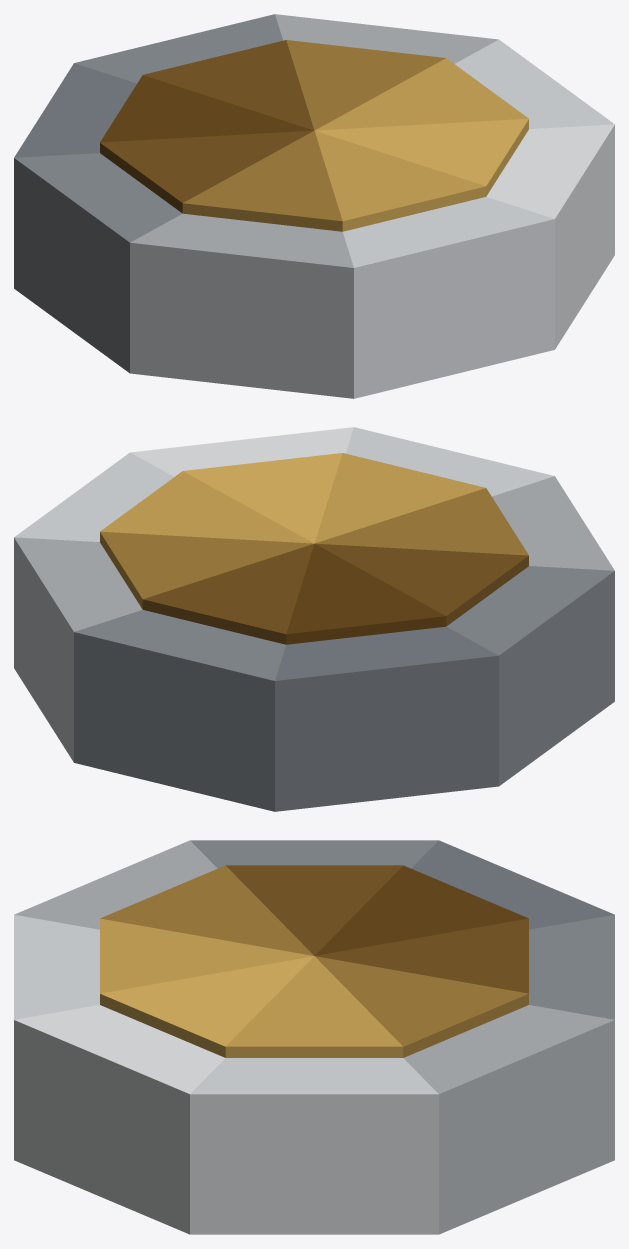
Rendered from ammo_coin.gltf.
3 views of the same model, one above another, from view 1: azimuth 30°, elevation 25°; view 2: azimuth 150°, elevation 25°; view 3: azimuth 270°, elevation 25° (orthographic). The views are drawn at different scales.
Parts seen in each view (by area): view 1: ammo_coin; view 2: ammo_coin; view 3: ammo_coin.
Boxes of the visible parts, box(x1,y1,x2,y2) form: ammo_coin: box(14, 14, 614, 398); ammo_coin: box(14, 427, 614, 811); ammo_coin: box(14, 840, 614, 1234).
Size of the model in its own units: 0.388 by 0.116 by 0.388.
1 material, 1 textured.
